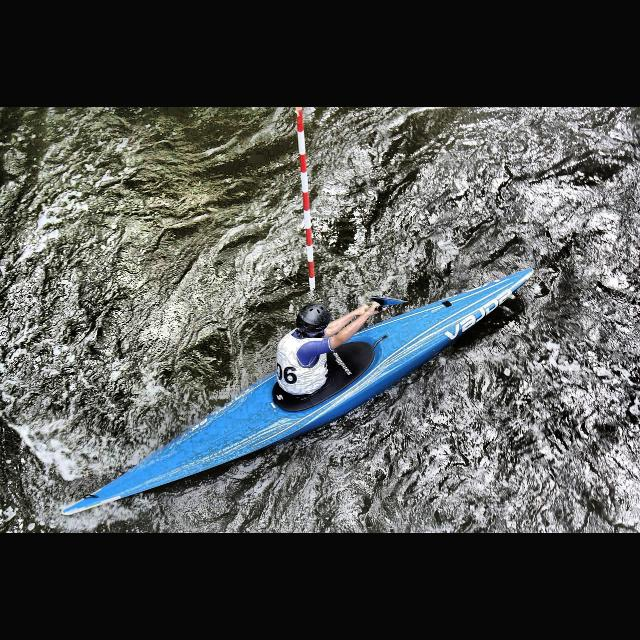kayak: (62, 267, 534, 519)
